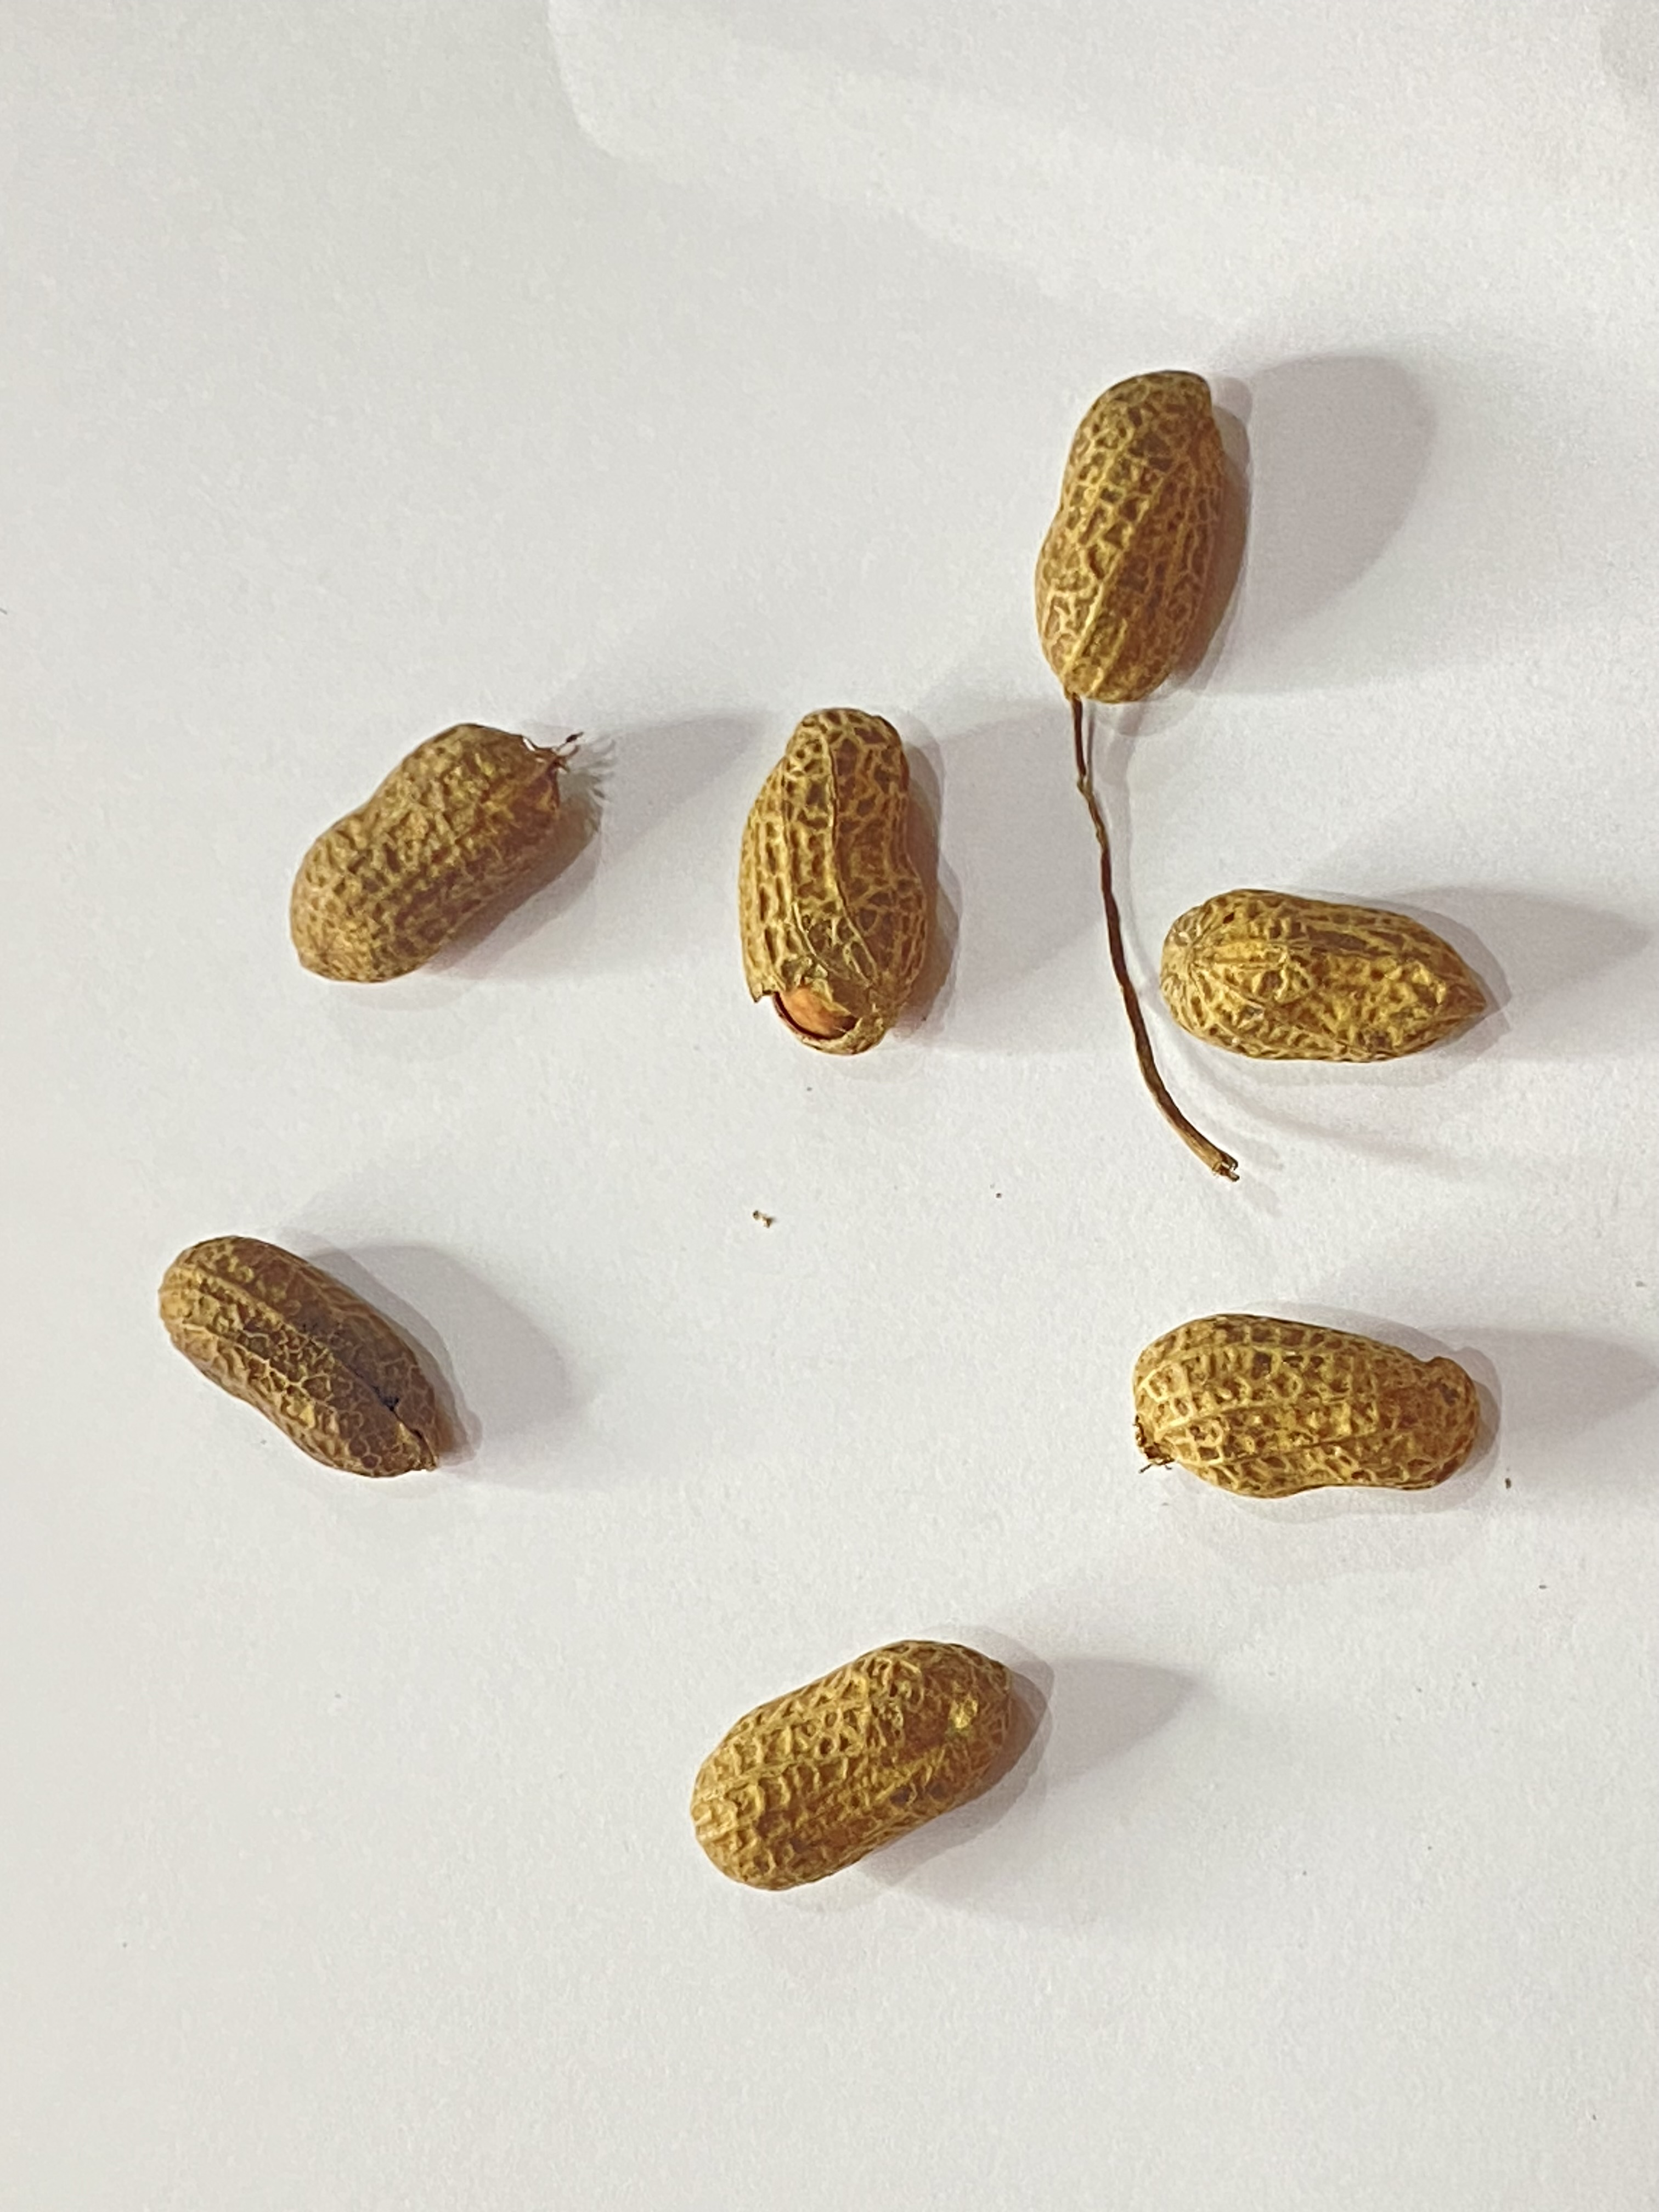kacang2: (690, 1637, 1016, 1892), (155, 1237, 479, 1480), (1119, 1308, 1513, 1496), (289, 721, 568, 984), (1030, 371, 1237, 707), (741, 704, 936, 1052), (1159, 887, 1481, 1062)
